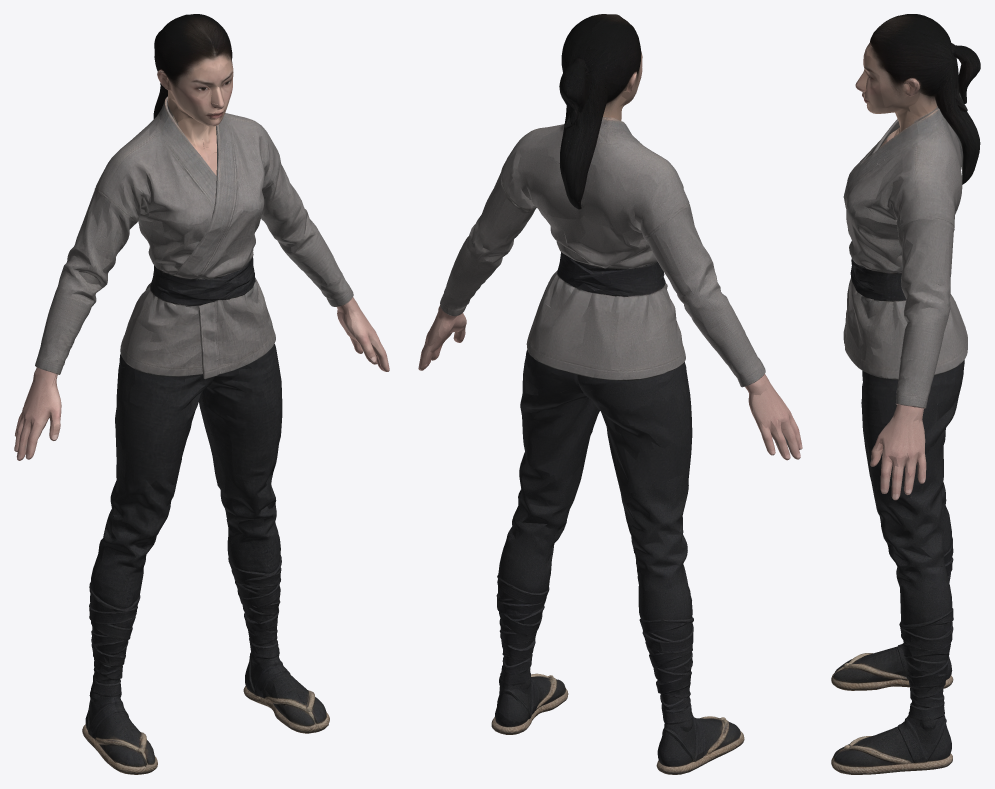
File: base_female_image.glb
3 views of the same model, side by side, from view 1: azimuth 30°, elevation 25°; view 2: azimuth 150°, elevation 25°; view 3: azimuth 270°, elevation 25° (orthographic). The views are drawn at different scales.
Bounding box in the file's own units: 1.04 × 1.9 × 0.3639.
Materials: 1 (1 with a texture image).
